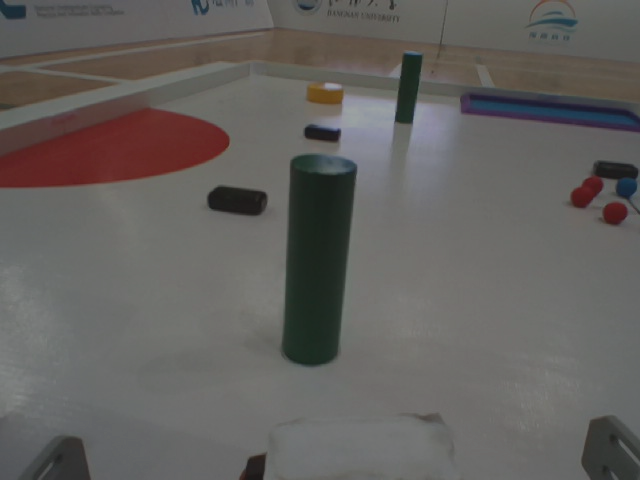black: (205, 183, 273, 218), (590, 156, 638, 180), (298, 120, 343, 139)
blue: (614, 174, 636, 195)
kuang: (453, 88, 640, 135)
red: (602, 201, 625, 226), (568, 184, 590, 205), (583, 171, 602, 191)
yellow: (307, 80, 343, 101)
zhuzi: (280, 153, 359, 371), (394, 48, 424, 126)
